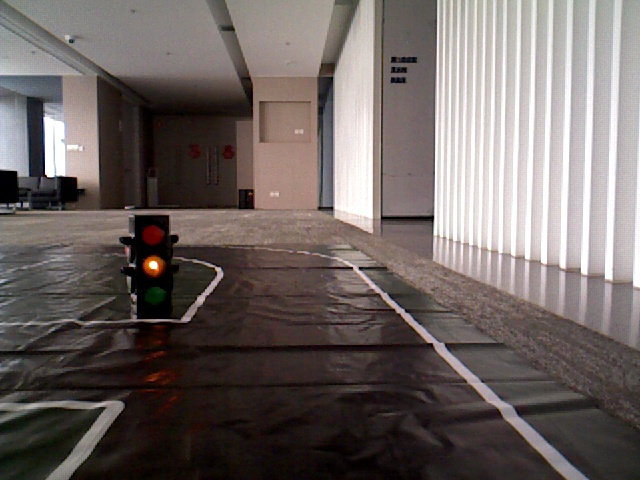yellow: (132, 218, 172, 309)
